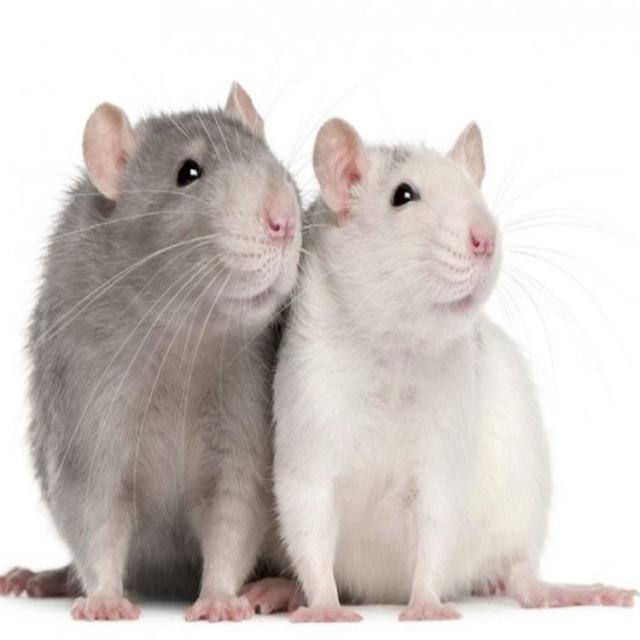rat: (273, 119, 631, 621), (0, 85, 301, 618)
